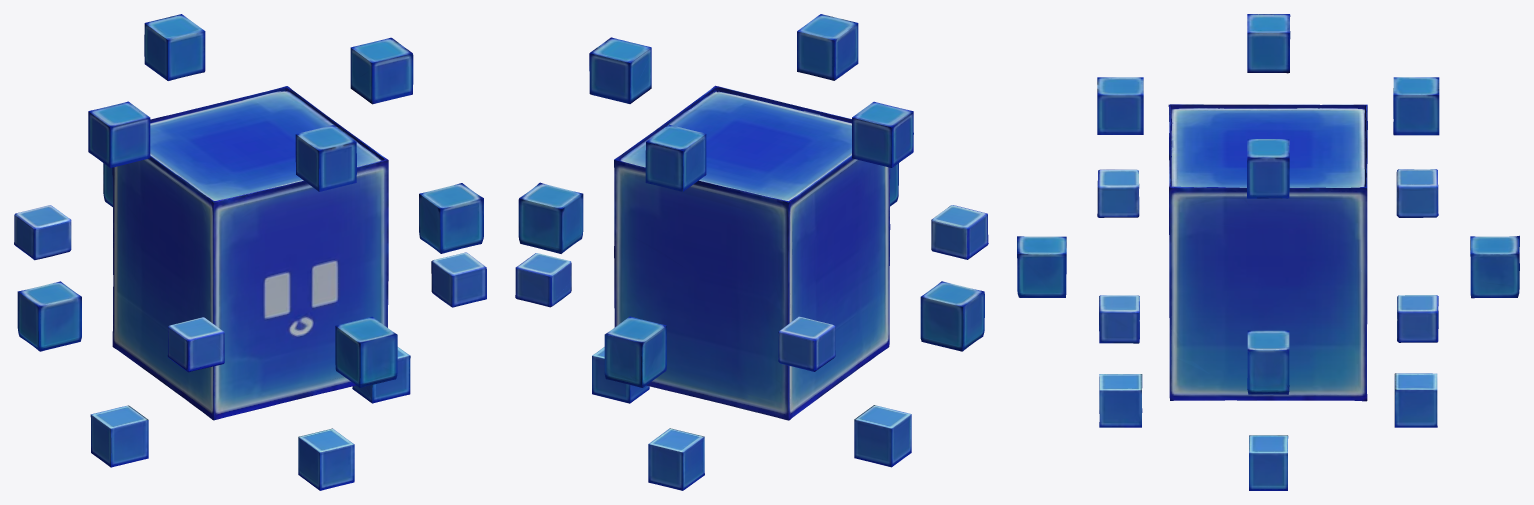
Rendered from cubey.glb.
3 views of the same model, side by side, from view 1: azimuth 30°, elevation 25°; view 2: azimuth 150°, elevation 25°; view 3: azimuth 270°, elevation 25° (orthographic). The views are drawn at different scales.
Parts seen in each view (by area): view 1: helper; view 2: helper; view 3: helper.
Part boxes in pixels (bbox=[...]): helper: bbox=[14, 14, 486, 490]; helper: bbox=[515, 14, 988, 490]; helper: bbox=[1017, 14, 1519, 490].
Size of the model in its own units: 1.36 by 0.9999 by 1.37.
Materials: 1 (1 with a texture image).
